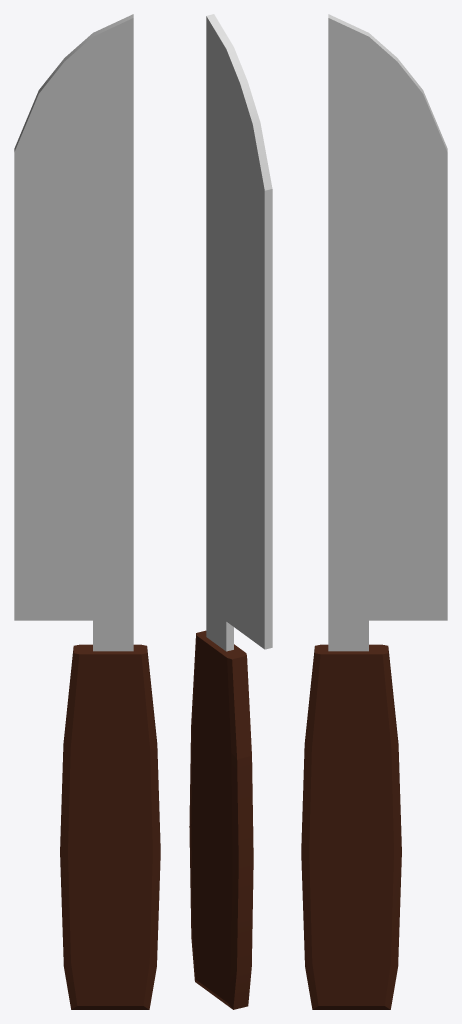
The model's file is Knife.fbx.
3 renders of one model, left to right at view 1: azimuth 90°, elevation 25°; view 2: azimuth 210°, elevation 25°; view 3: azimuth 270°, elevation 25°, orthographic. The views are drawn at different scales.
Parts seen in each view (by area): view 1: Knife; view 2: Knife; view 3: Knife.
Part boxes in pixels (box(x1,y1,x2,y2)): Knife: box(14, 14, 160, 1009); Knife: box(189, 14, 272, 1009); Knife: box(301, 14, 447, 1009).
Size of the model in its own units: 0.3088 by 14.88 by 1.99.
